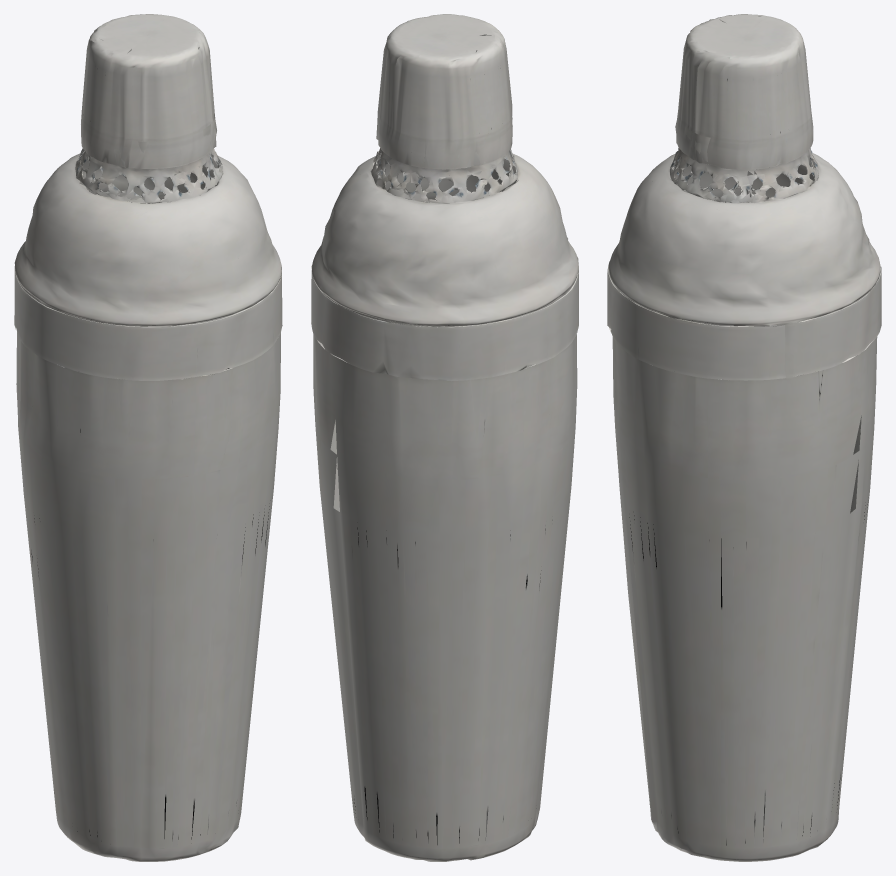
Rendered from desktop.glb.
The picture shows the model from 3 angles, left to right: view 1: azimuth 30°, elevation 25°; view 2: azimuth 150°, elevation 25°; view 3: azimuth 270°, elevation 25°; orthographic projection.
Parts seen in each view (by area): view 1: shaker; view 2: shaker; view 3: shaker.
Boxes of the visible parts, <box> form: shaker: <box>14,14,282,861</box>; shaker: <box>311,14,578,861</box>; shaker: <box>607,14,881,861</box>.
Size of the model in its own units: 0.0767 by 0.25 by 0.0784.
1 material, 1 textured.
